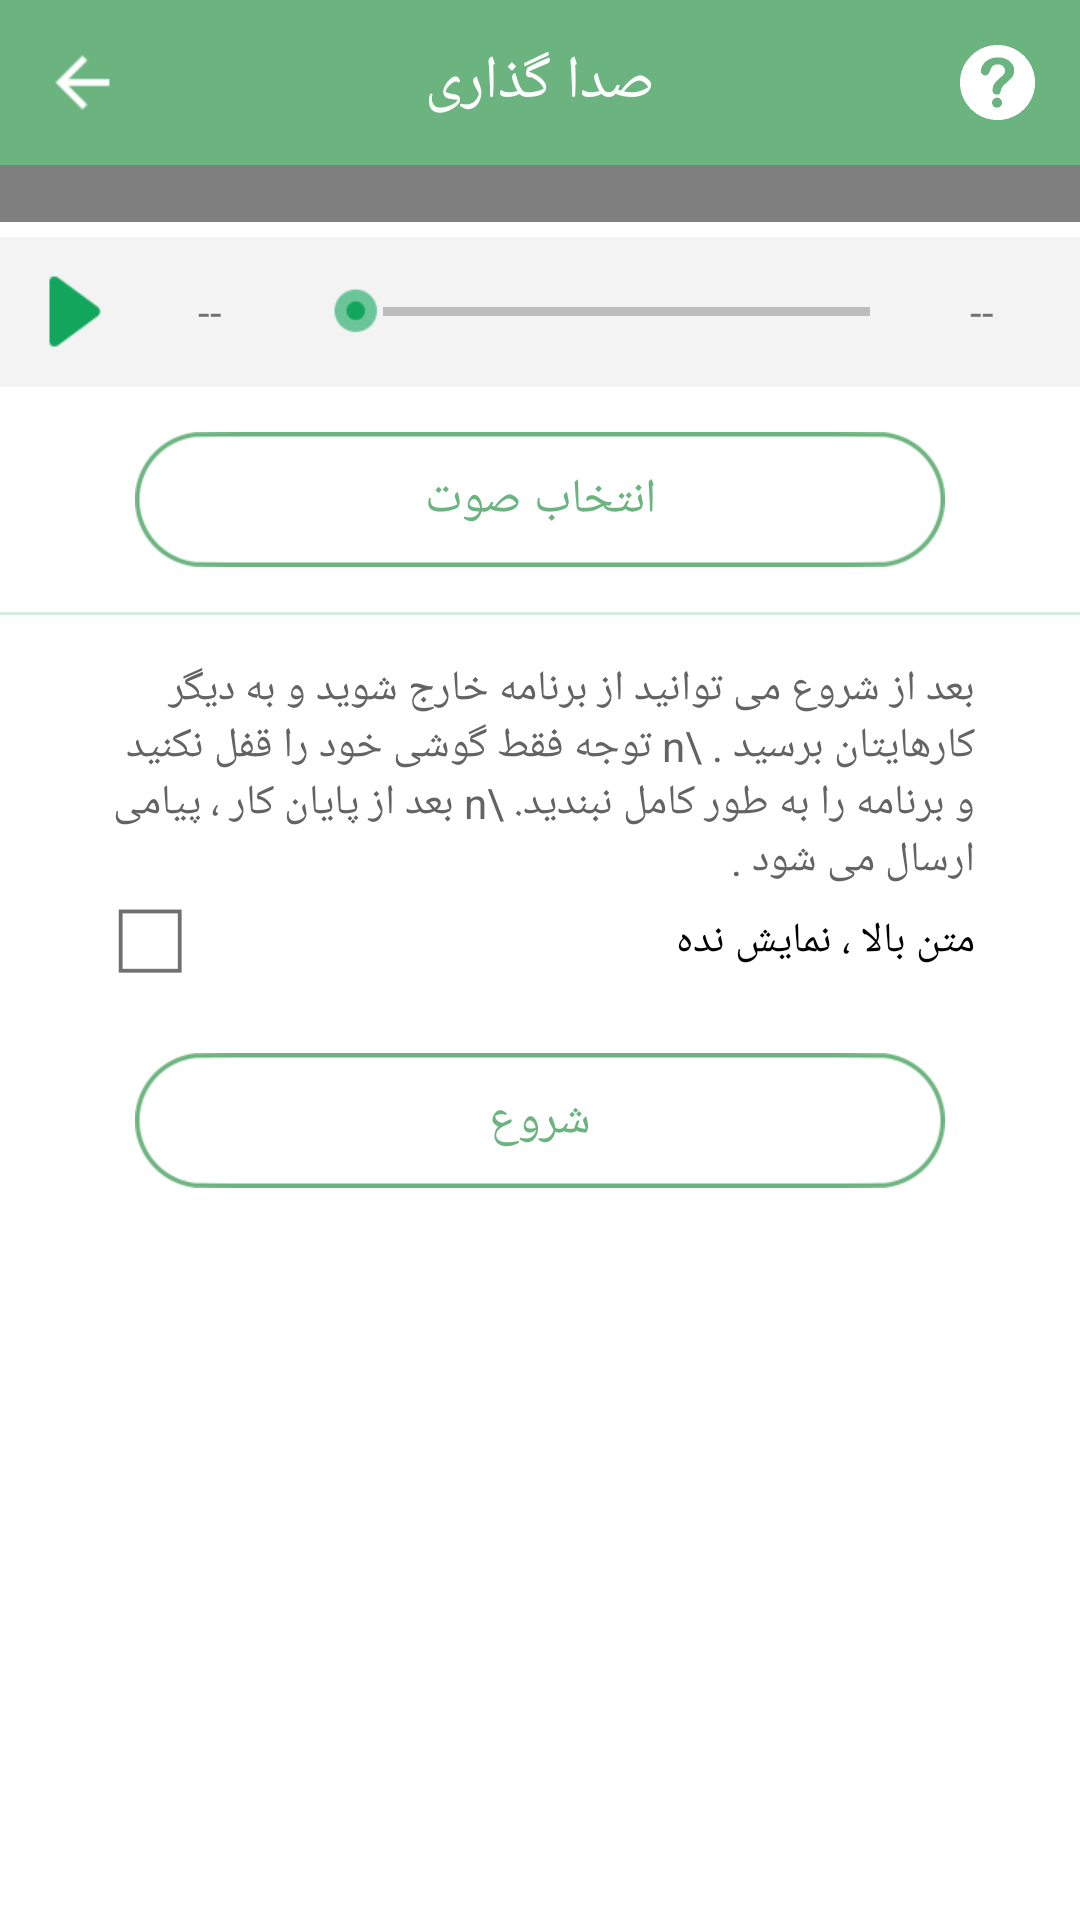

Icons on this 1080w x 1920h Android screen, each with the point to tap as (x,y):
back unpresed: (82,82)
help: (997,82)
play: (75,311)
